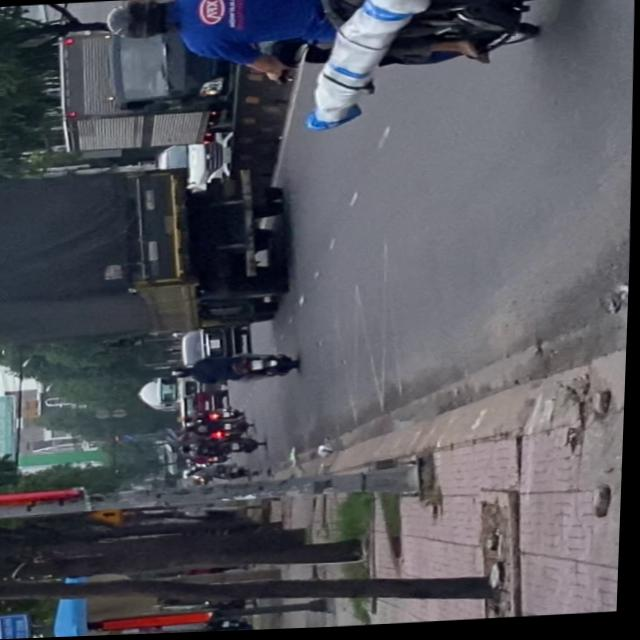helmet: (103, 0, 177, 40)
licenseplate: (96, 0, 583, 92)
